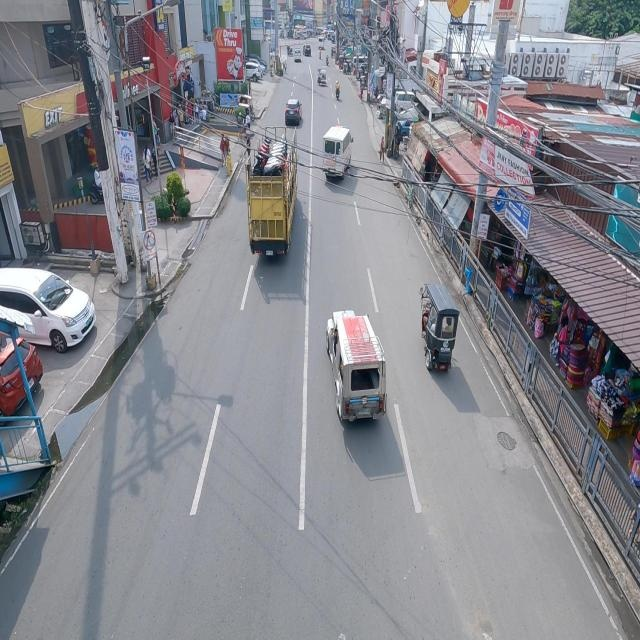Truck: (244, 120, 298, 260)
